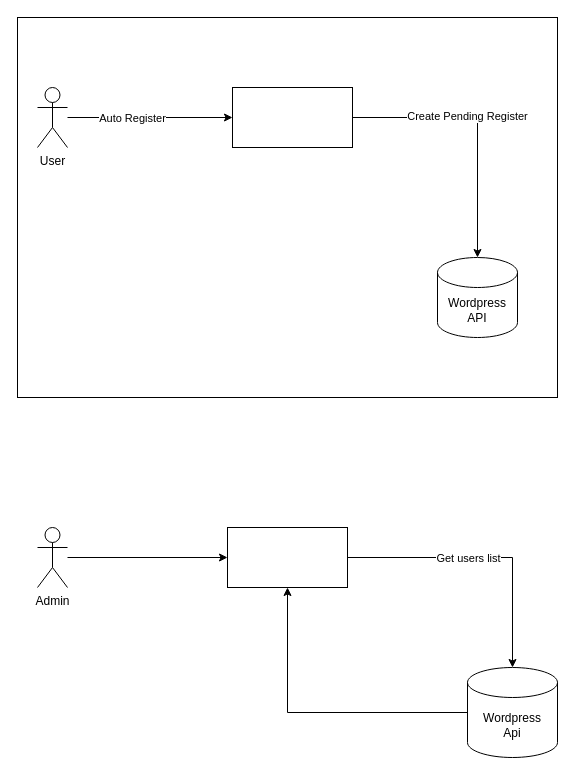
Some shapes in this 575 by 775 pixel diagram are drawn without their labels. The centre of each missing label's shape, as x and y in pixels:
Admin Page: [287,557]
Register page: [292,117]
